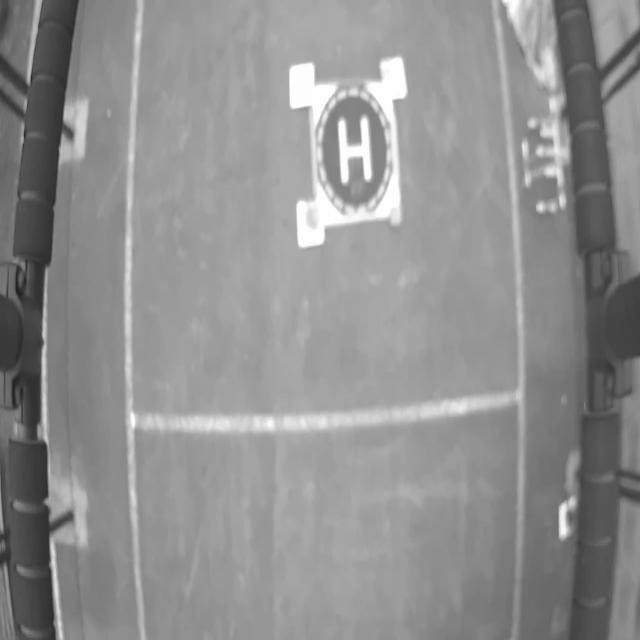Helipad: (337, 115, 373, 188)
